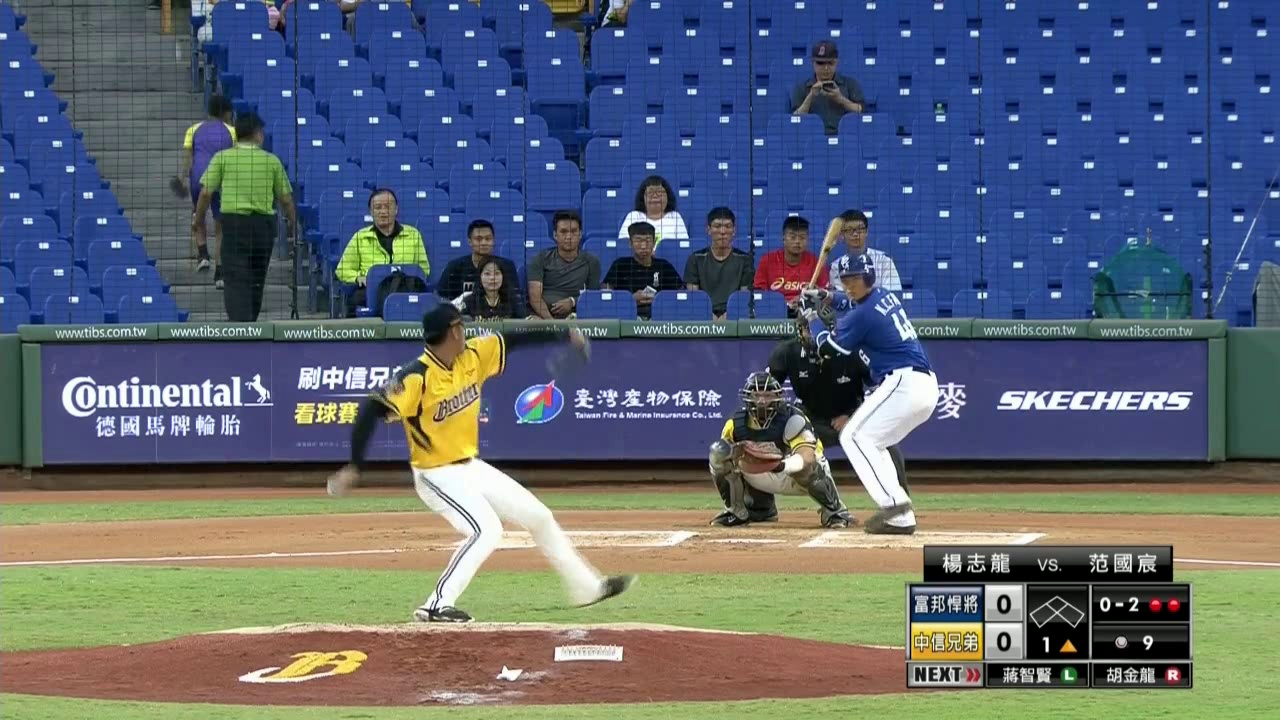ball: (325, 478, 348, 496)
base: (1029, 592, 1087, 630)
bat: (810, 214, 847, 288)
out: (1146, 596, 1183, 615)
score1: (985, 585, 1023, 620)
score2: (985, 623, 1022, 658)
session: (1036, 634, 1079, 654)
strikeball: (1096, 592, 1140, 615)
total: (1106, 631, 1162, 651)
